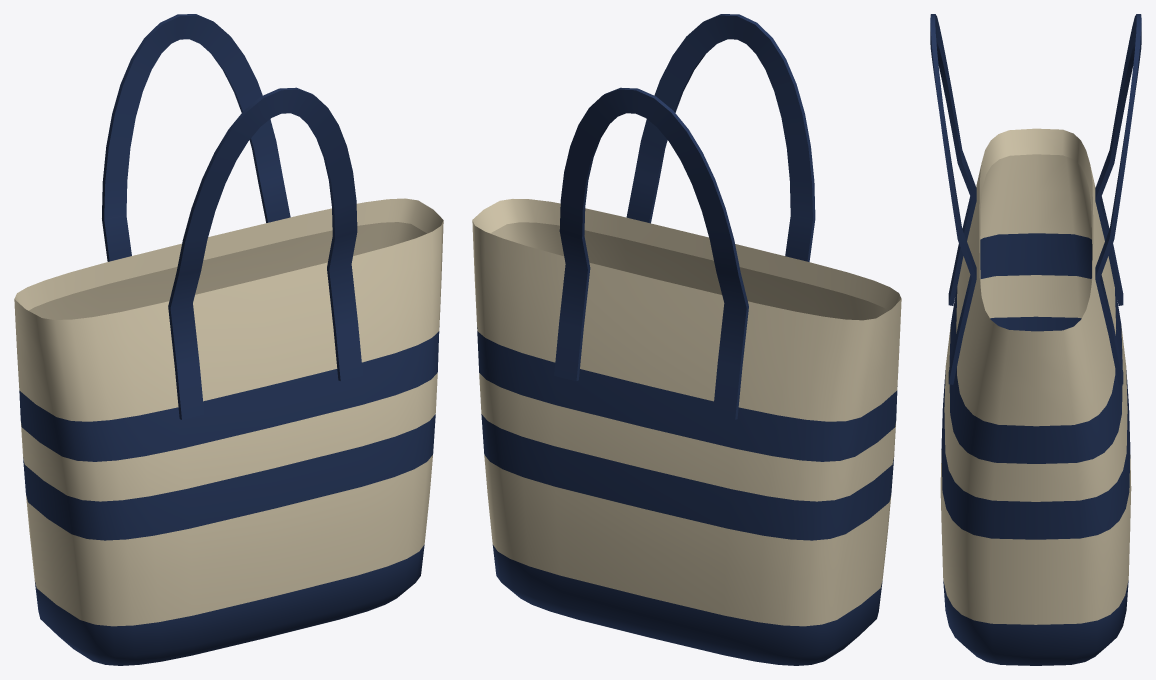
The model's file is beach_bag.glb.
3 views of the same model, side by side, from view 1: azimuth 30°, elevation 25°; view 2: azimuth 150°, elevation 25°; view 3: azimuth 270°, elevation 25° (orthographic).
Visible parts, largest first — view 1: beach_bag; view 2: beach_bag; view 3: beach_bag.
Part boxes in pixels (x1,y1,x2,y2): beach_bag: (14,14,443,665); beach_bag: (472,14,901,665); beach_bag: (930,14,1141,665).
Size of the model in its own units: 0.437 by 0.572 by 0.1924.
